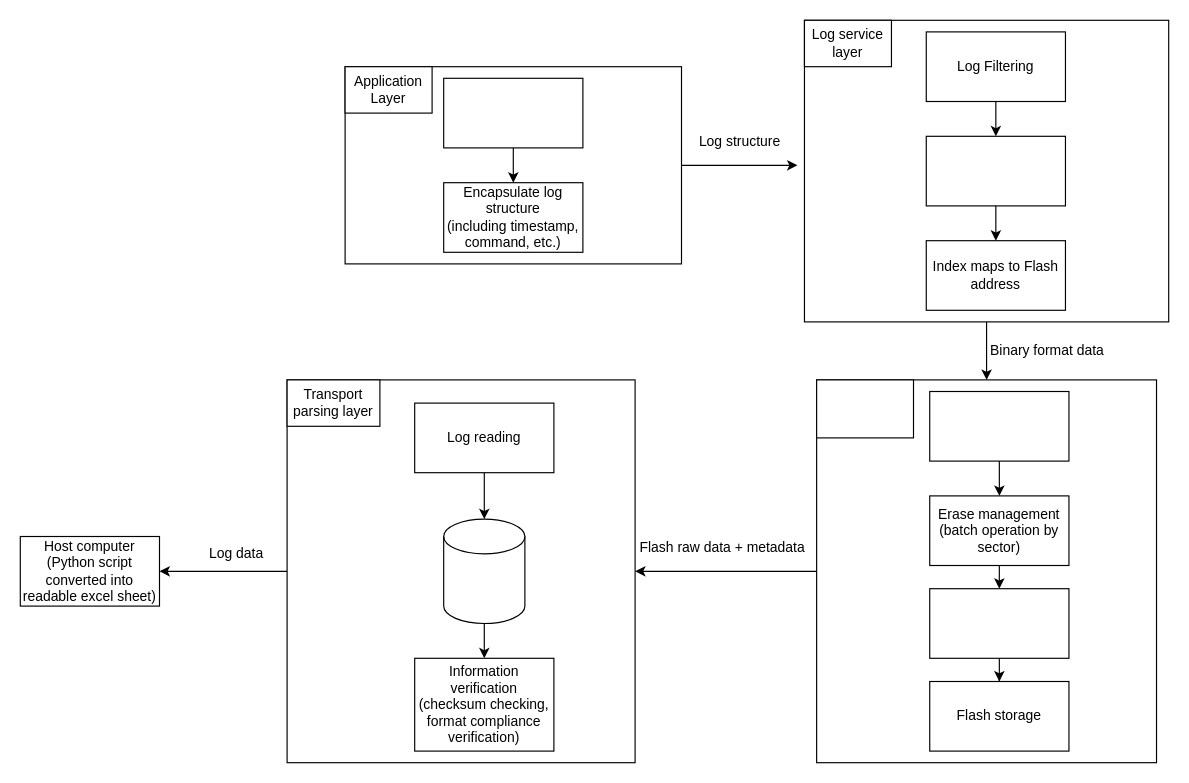
Some shapes in this 1189 by 783 pixel diagram are drawn without their labels. The centre of each missing label's shape, as x and y in pixels:
"Buffer Management" goes at (995,170).
"Interface command processing function" goes at (513,112).
"Metadata management (total number of logs, address, etc.)" goes at (999,623).
"Storage Management Layer" goes at (864,408).
"Storage strategy selection (loop overwrite)" goes at (999,425).
"Upload channel UART, network" goes at (484,571).
